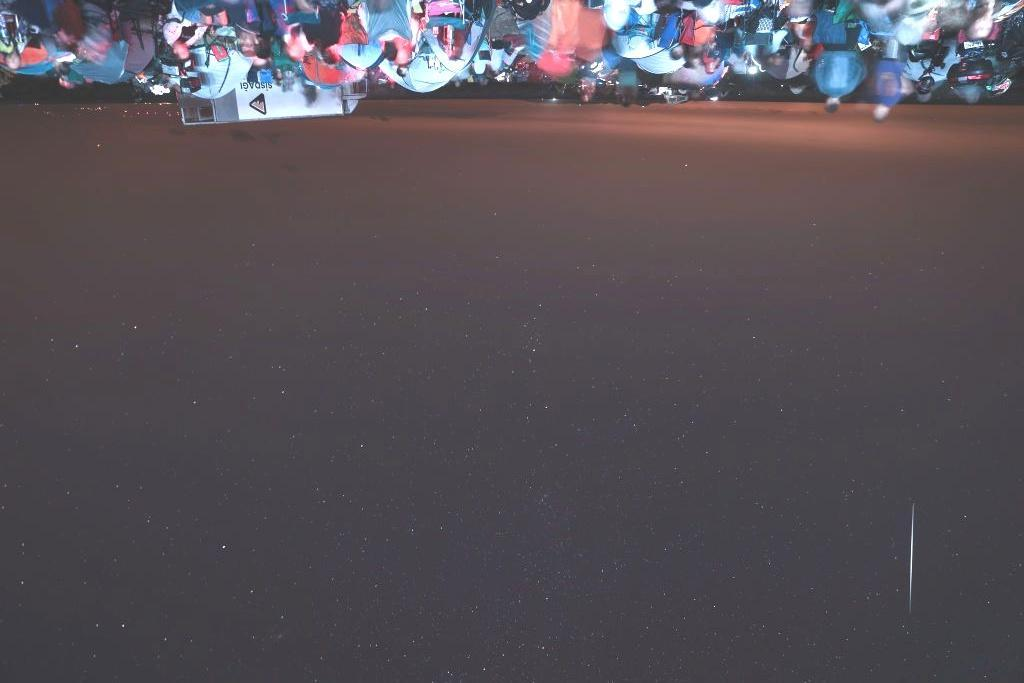meteorite: (888, 489, 935, 624)
